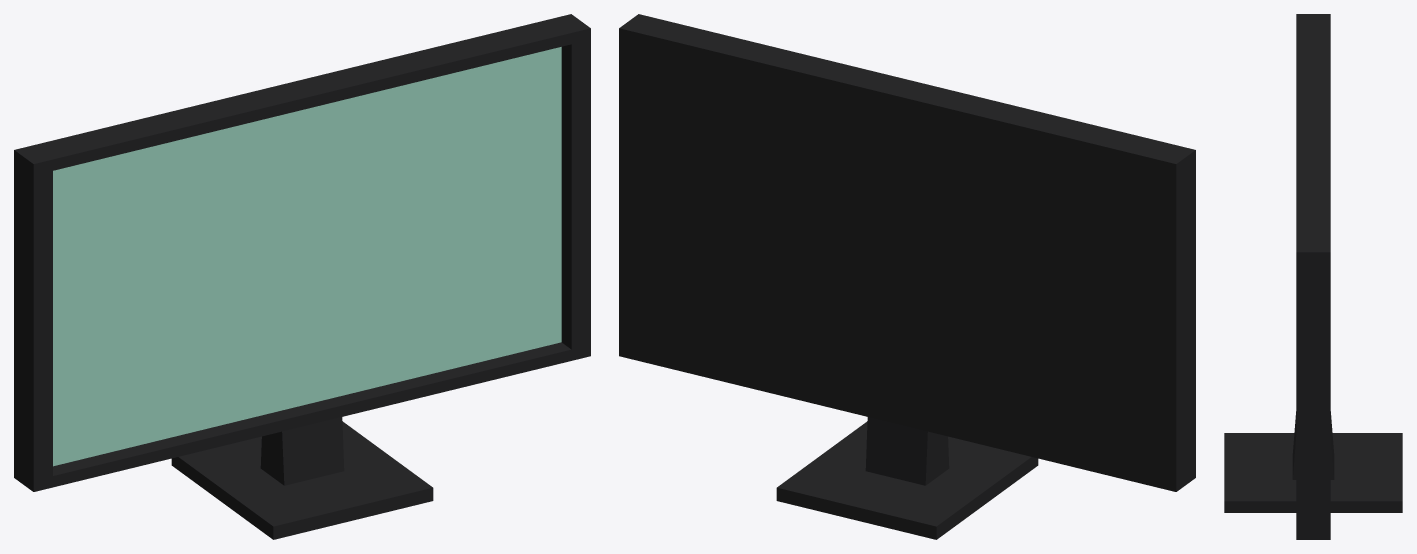
Rendered from Office_Screen.glb.
The picture shows the model from 3 angles, left to right: view 1: azimuth 30°, elevation 25°; view 2: azimuth 150°, elevation 25°; view 3: azimuth 270°, elevation 25°; orthographic projection. The views are drawn at different scales.
Parts seen in each view (by area): view 1: Screen; view 2: Screen; view 3: Screen.
Boxes of the visible parts, bbox=[...] form: Screen: bbox=[14, 14, 590, 539]; Screen: bbox=[619, 14, 1195, 539]; Screen: bbox=[1224, 14, 1402, 539].
Size of the model in its own units: 0.7756 by 0.5243 by 0.2451.
